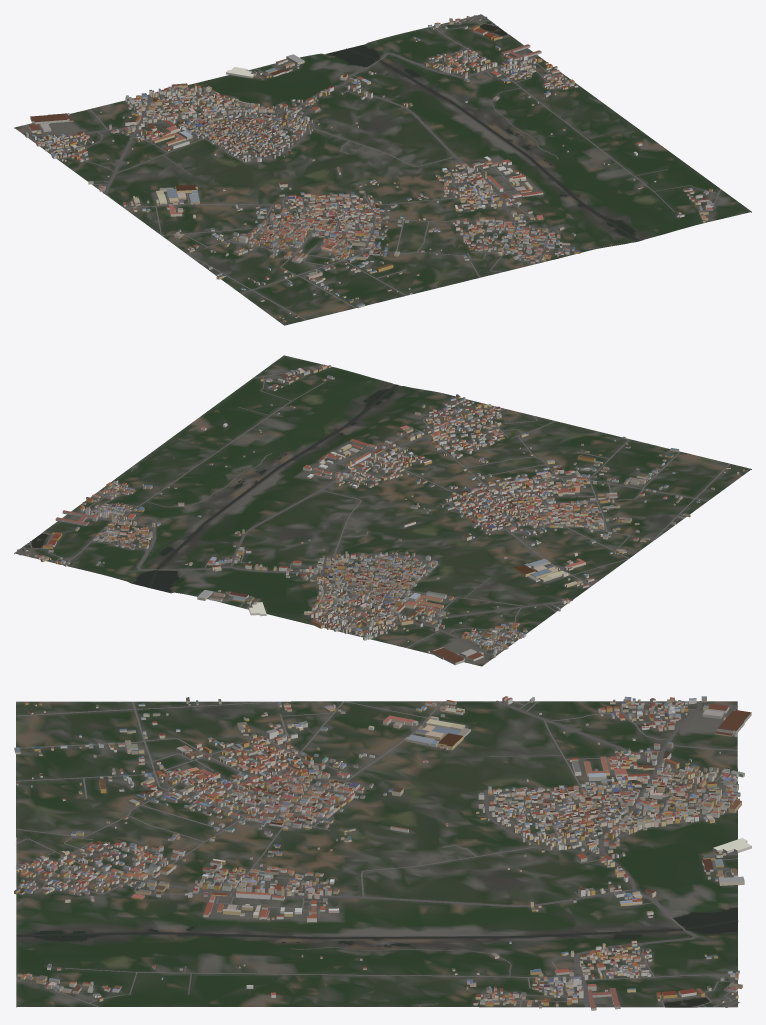
3 renders of one model, top to bottom at view 1: azimuth 30°, elevation 25°; view 2: azimuth 150°, elevation 25°; view 3: azimuth 270°, elevation 25°, orthographic. The views are drawn at different scales.
Visible parts, largest first — view 1: ground, buildings, roads, water; view 2: ground, buildings, roads, water; view 3: ground, buildings, roads, water.
Boxes of the visible parts, <box> form: ground: <box>14,14,751,325</box>; buildings: <box>25,16,713,322</box>; roads: <box>21,14,721,320</box>; water: <box>326,24,639,241</box>; ground: <box>14,355,751,666</box>; buildings: <box>26,364,744,665</box>; roads: <box>14,364,730,664</box>; water: <box>32,384,398,592</box>; ground: <box>16,701,737,1007</box>; buildings: <box>14,696,751,1010</box>; roads: <box>16,700,739,1007</box>; water: <box>16,907,738,1006</box>.
Size of the model in its own units: 1425 by 31.35 by 1433.
